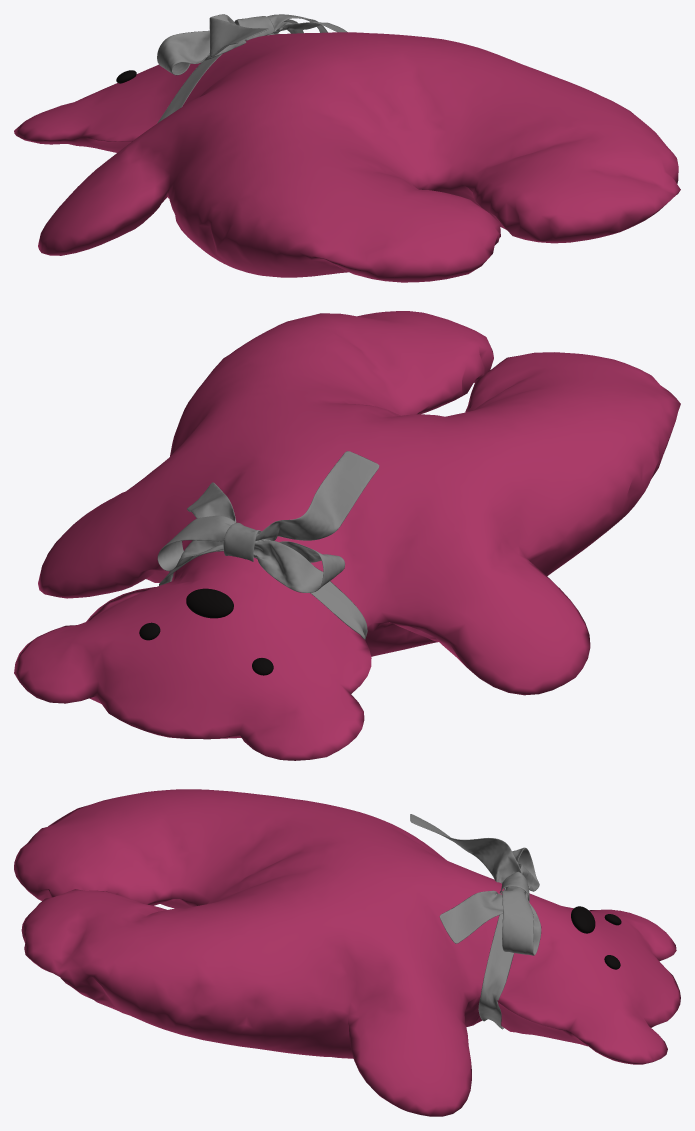
The model's file is 毛绒玩具.FBX.
3 views of the same model, one above another, from view 1: azimuth 30°, elevation 25°; view 2: azimuth 150°, elevation 25°; view 3: azimuth 270°, elevation 25° (orthographic). The views are drawn at different scales.
Visible parts, largest first — view 1: 身体, 领结, 领结2, 领结3; view 2: 身体, 领结, 领结2, 鼻子, 领结3; view 3: 身体, 领结, 领结2, 鼻子.
Part boxes in pixels (x1,y1,x2,y2): 身体: (14,32,680,282); 领结: (157,14,347,75); 领结2: (157,33,279,123); 领结3: (234,16,274,40); 身体: (14,311,680,760); 领结: (157,451,379,592); 领结2: (159,539,367,639); 鼻子: (186,588,233,618); 领结3: (223,522,261,561); 身体: (14,789,680,1116); 领结: (410,814,541,955); 领结2: (478,887,513,1029); 鼻子: (571,906,595,933).
Size of the model in its own units: 6.25 by 2.38 by 7.7.
